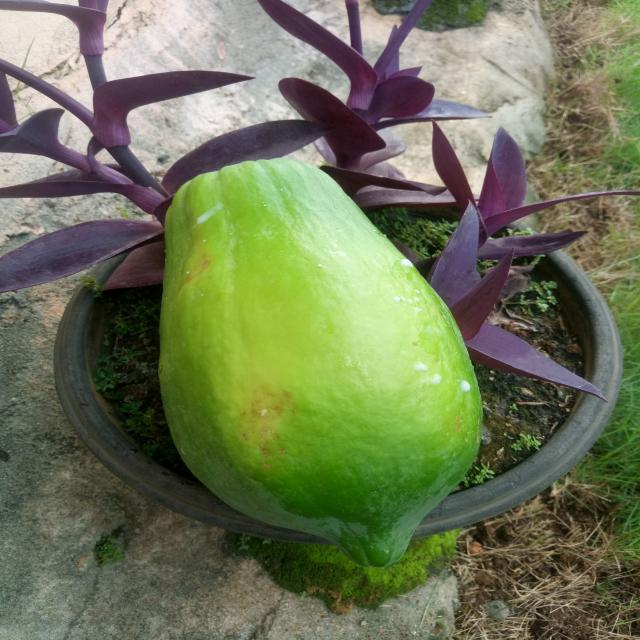Pepaya unrippen: (152, 149, 478, 570)
